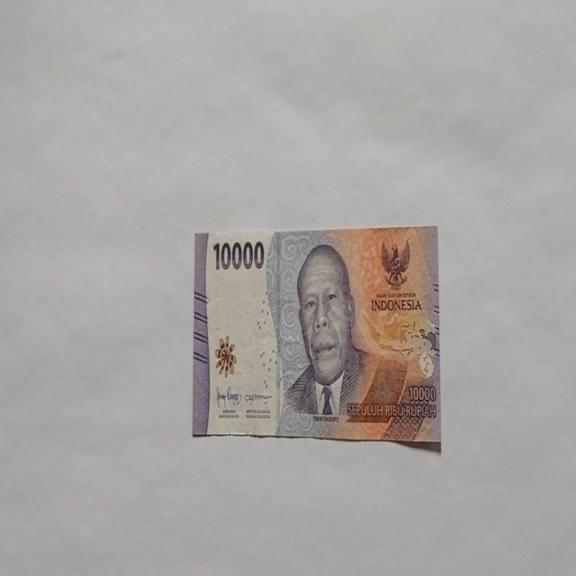Kertas: (192, 224, 441, 448), (212, 238, 265, 272)
